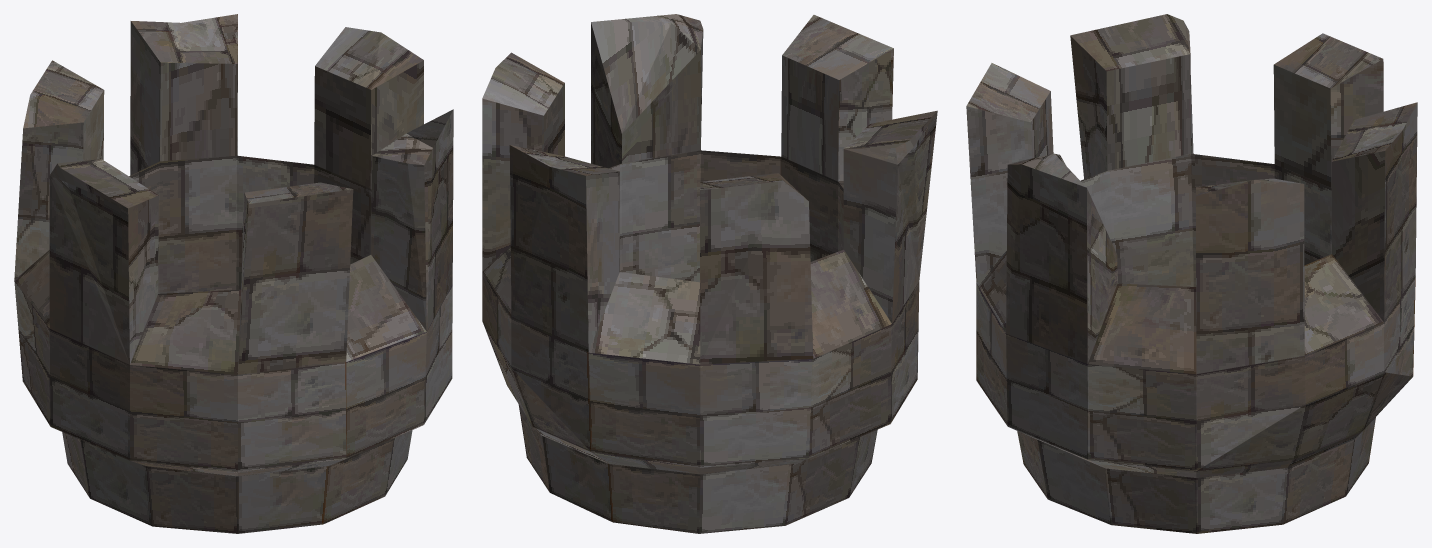
Rendered from item_castle_roof_topper.glb.
3 renders of one model, left to right at view 1: azimuth 30°, elevation 25°; view 2: azimuth 150°, elevation 25°; view 3: azimuth 270°, elevation 25°, orthographic.
Visible parts, largest first — view 1: Krenelation; view 2: Krenelation; view 3: Krenelation.
Part boxes in pixels (x1,y1,x2,y2): Krenelation: [14, 14, 453, 533]; Krenelation: [482, 14, 937, 533]; Krenelation: [966, 14, 1417, 533].
Size of the model in its own units: 1.66 by 1.54 by 1.7.
1 material, 1 textured.
